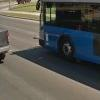Bus: (30, 1, 99, 73)
